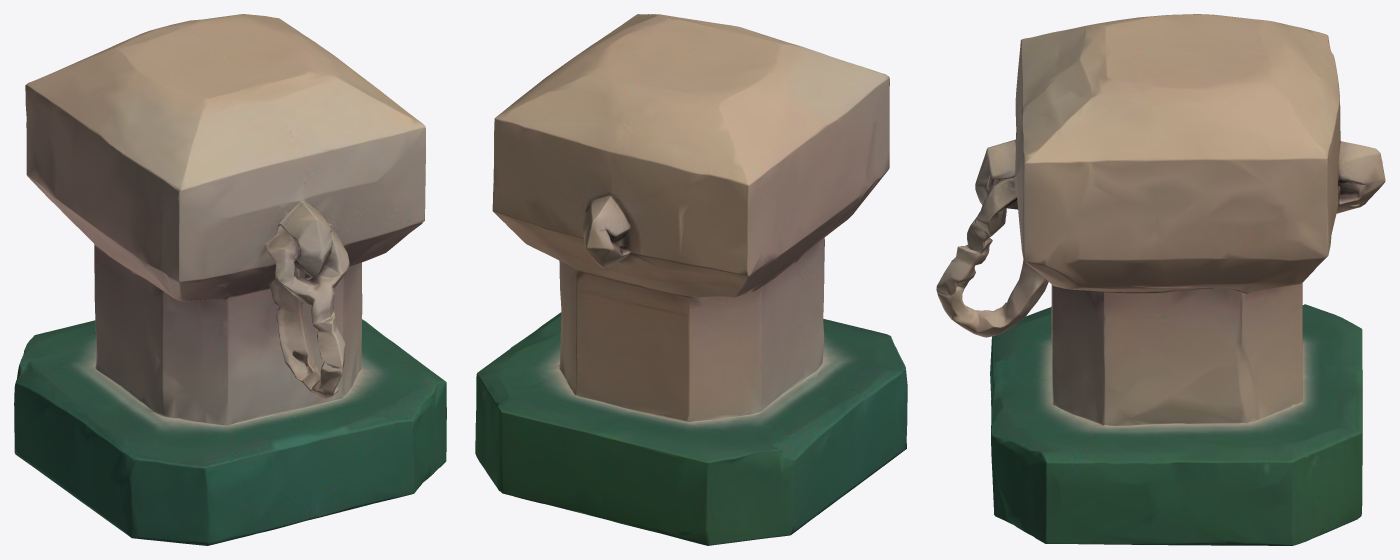
Rendered from bollard.glb.
3 renders of one model, left to right at view 1: azimuth 30°, elevation 25°; view 2: azimuth 150°, elevation 25°; view 3: azimuth 270°, elevation 25°, orthographic. The views are drawn at different scales.
Visible parts, largest first — view 1: tripo_node_3004fcbb-9024-42d2-b960-862937d98190; view 2: tripo_node_3004fcbb-9024-42d2-b960-862937d98190; view 3: tripo_node_3004fcbb-9024-42d2-b960-862937d98190.
Boxes of the visible parts, box(x1,y1,x2,y2) form: tripo_node_3004fcbb-9024-42d2-b960-862937d98190: box(14, 14, 446, 545); tripo_node_3004fcbb-9024-42d2-b960-862937d98190: box(475, 14, 907, 545); tripo_node_3004fcbb-9024-42d2-b960-862937d98190: box(936, 14, 1385, 545).
Size of the model in its own units: 0.8369 by 1 by 0.977.
Materials: 1 (1 with a texture image).
